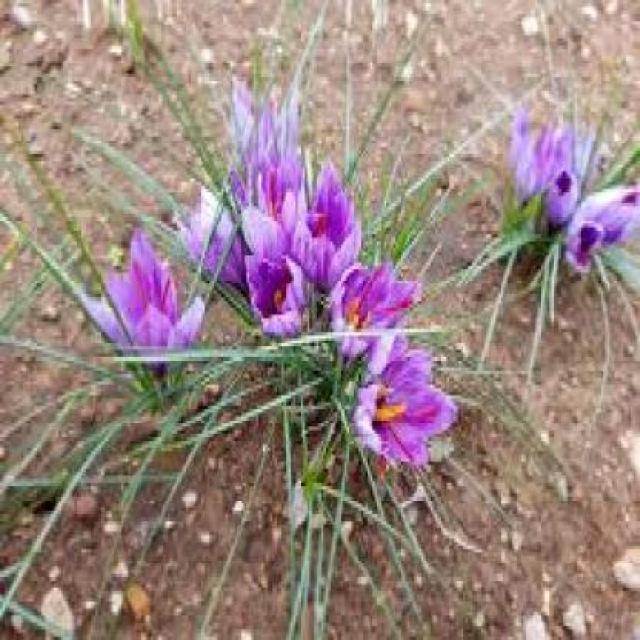Flower: (89, 228, 205, 381), (352, 334, 459, 466), (322, 253, 421, 349), (242, 249, 312, 346)
stigma: (356, 267, 386, 305), (128, 260, 150, 310)
